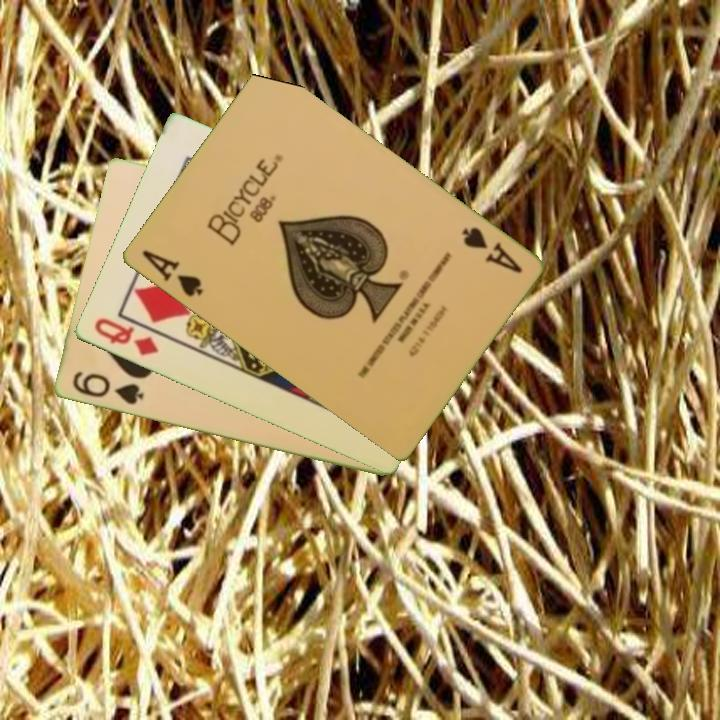6s: (68, 368, 146, 408)
As: (138, 246, 206, 300), (457, 223, 525, 277)
Qd: (90, 314, 161, 359)
